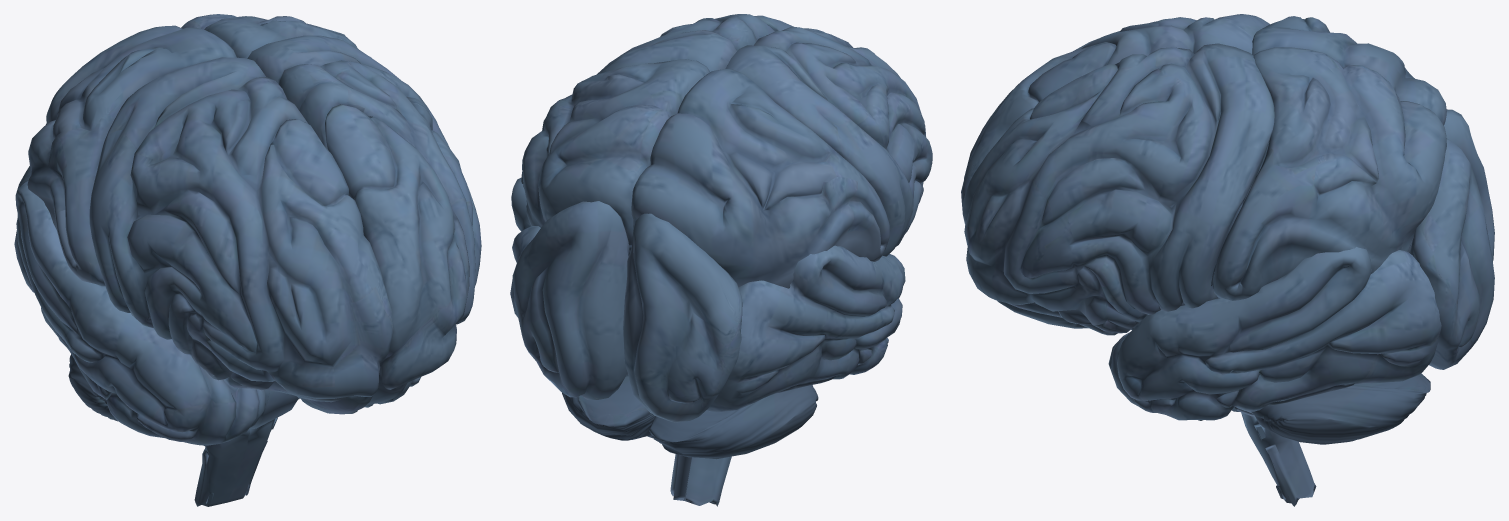
The model's file is brain-watermark.glb.
3 views of the same model, side by side, from view 1: azimuth 30°, elevation 25°; view 2: azimuth 150°, elevation 25°; view 3: azimuth 270°, elevation 25° (orthographic). The views are drawn at different scales.
Visible parts, largest first — view 1: Frontal_Lobe_Right, Frontal_Lobe_Left, Temporal_Lobe_Right, Parietal_Lobe_Right, Nervous_Brain_Stem, Parietal_Lobe_Left, Nervous_Full_Cerebellum_1; view 2: Parietal_Lobe_Right, Frontal_Lobe_Right, Temporal_Lobe_Right, Occipital_Lob_Right, Occipital_Lob_Left, Parietal_Lobe_Left, Nervous_Full_Cerebellum_1, Frontal_Lobe_Left, Nervous_Full_Cerebellum_2, Nervous_Brain_Stem, Temporal_Lobe_Left; view 3: Frontal_Lobe_Left, Temporal_Lobe_Left, Parietal_Lobe_Left, Occipital_Lob_Left, Frontal_Lobe_Right, Nervous_Full_Cerebellum_2, Parietal_Lobe_Right, Nervous_Brain_Stem, Occipital_Lob_Right.
Boxes of the visible parts, left/top/right/bottom form: Frontal_Lobe_Right: left=89, top=57, right=393, bottom=414; Frontal_Lobe_Left: left=247, top=35, right=481, bottom=407; Temporal_Lobe_Right: left=14, top=181, right=265, bottom=445; Parietal_Lobe_Right: left=27, top=25, right=236, bottom=286; Nervous_Brain_Stem: left=194, top=390, right=299, bottom=506; Parietal_Lobe_Left: left=181, top=14, right=371, bottom=58; Nervous_Full_Cerebellum_1: left=68, top=354, right=117, bottom=421; Parietal_Lobe_Right: left=631, top=69, right=889, bottom=288; Frontal_Lobe_Right: left=725, top=26, right=932, bottom=256; Temporal_Lobe_Right: left=706, top=245, right=905, bottom=412; Occipital_Lob_Right: left=623, top=213, right=742, bottom=422; Occipital_Lob_Left: left=512, top=201, right=629, bottom=399; Parietal_Lobe_Left: left=521, top=59, right=709, bottom=255; Nervous_Full_Cerebellum_1: left=649, top=385, right=818, bottom=459; Frontal_Lobe_Left: left=597, top=14, right=793, bottom=74; Nervous_Full_Cerebellum_2: left=562, top=376, right=654, bottom=440; Nervous_Brain_Stem: left=670, top=454, right=731, bottom=506; Temporal_Lobe_Left: left=510, top=177, right=628, bottom=376; Frontal_Lobe_Left: left=962, top=43, right=1274, bottom=335; Temporal_Lobe_Left: left=1108, top=247, right=1441, bottom=420; Parietal_Lobe_Left: left=1211, top=47, right=1446, bottom=300; Occipital_Lob_Left: left=1410, top=138, right=1494, bottom=369; Frontal_Lobe_Right: left=961, top=14, right=1270, bottom=245; Nervous_Full_Cerebellum_2: left=1251, top=373, right=1430, bottom=444; Parietal_Lobe_Right: left=1252, top=16, right=1446, bottom=125; Nervous_Brain_Stem: left=1131, top=297, right=1316, bottom=506; Occipital_Lob_Right: left=1444, top=109, right=1494, bottom=261.
Bounding box in the file's own units: 12.74 × 15.71 × 16.57.
1 material, 1 textured.
